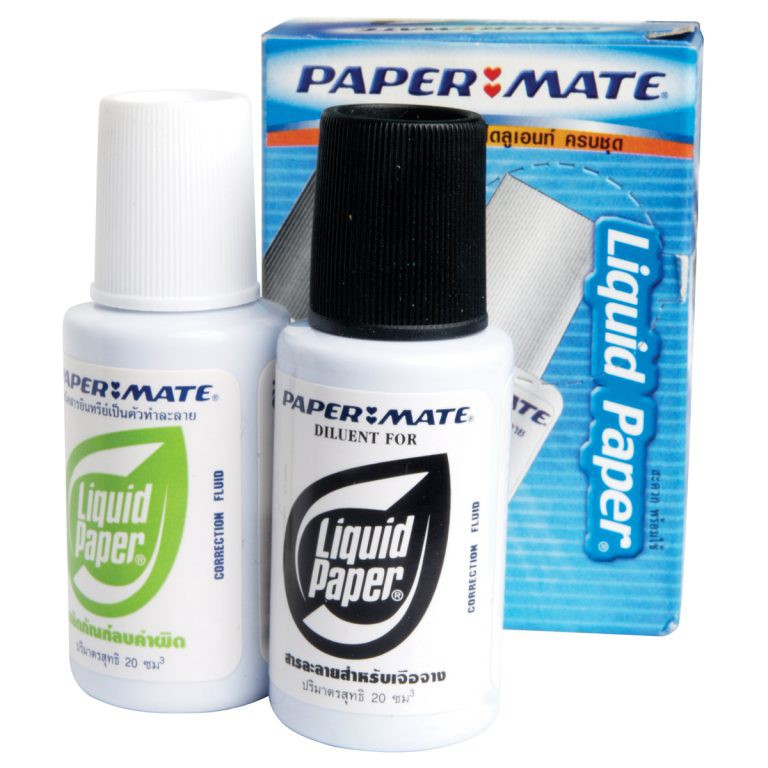Correction_fluid: (265, 94, 515, 757), (51, 76, 294, 718)
